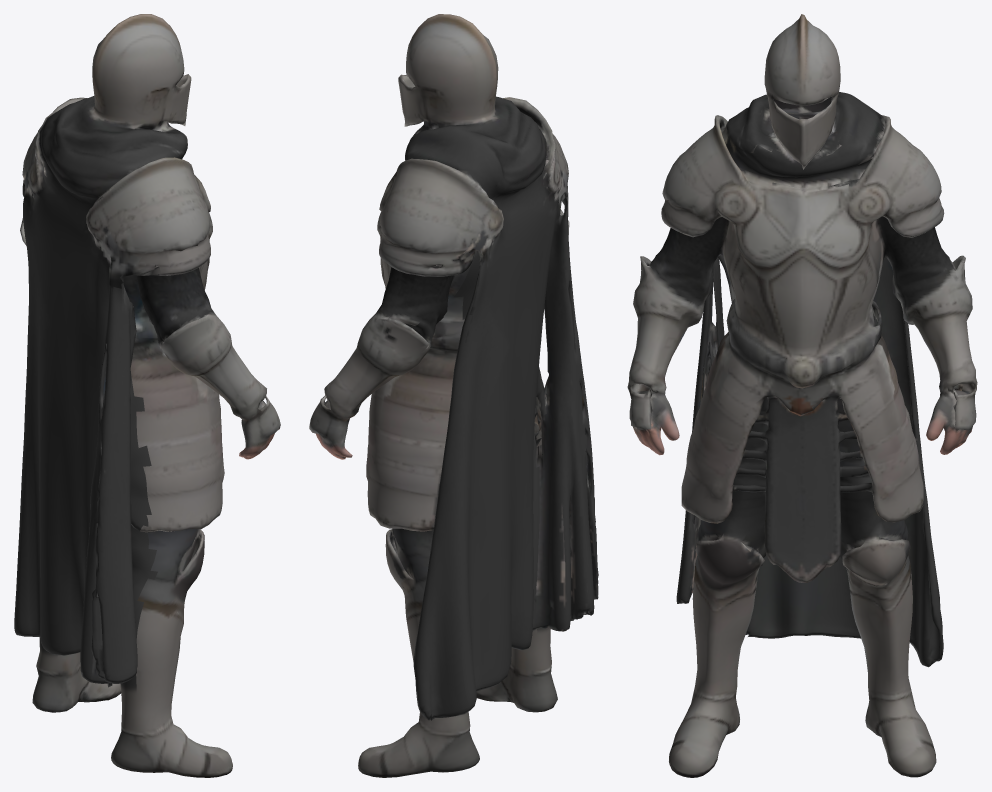
The model's file is Knight2.fbx.
3 renders of one model, left to right at view 1: azimuth 30°, elevation 25°; view 2: azimuth 150°, elevation 25°; view 3: azimuth 270°, elevation 25°, orthographic. The views are drawn at different scales.
Parts seen in each view (by area): view 1: Retopo_Origin; view 2: Retopo_Origin; view 3: Retopo_Origin.
Part boxes in pixels (bbox=[...]): Retopo_Origin: bbox=[14, 14, 280, 777]; Retopo_Origin: bbox=[309, 14, 598, 777]; Retopo_Origin: bbox=[627, 14, 977, 777].
Size of the model in its own units: 24.18 by 99.81 by 42.72.
Materials: 1 (1 with a texture image).
